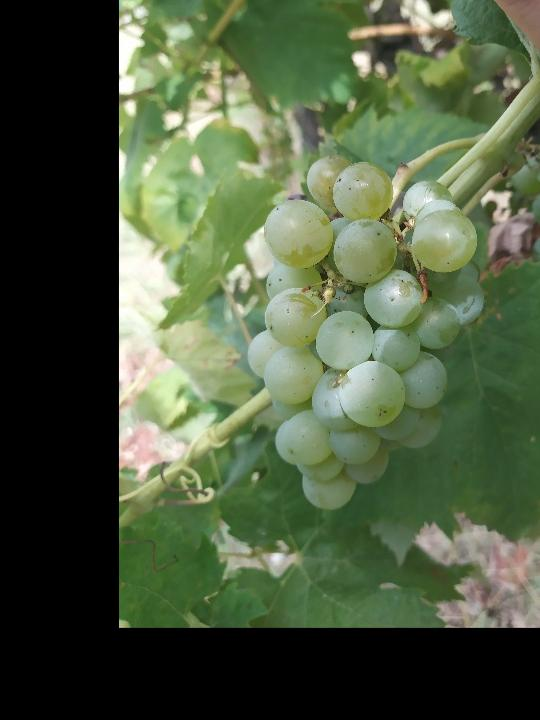grape: (245, 152, 489, 513)
